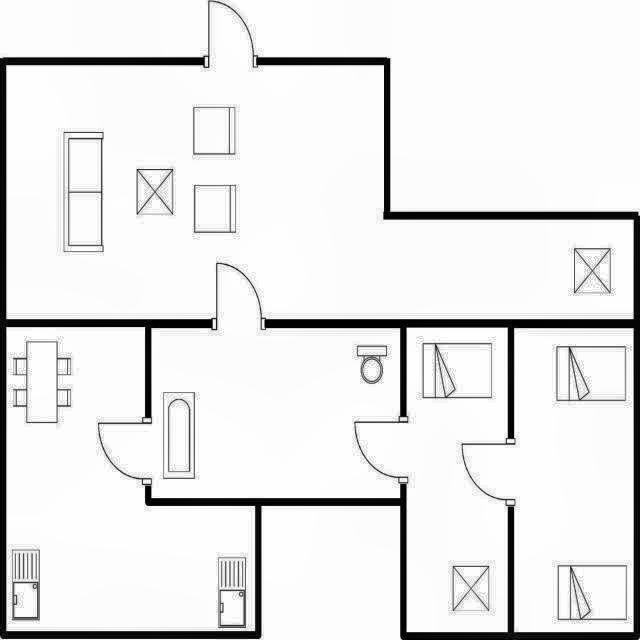room: (6, 65, 635, 319), (7, 326, 254, 631), (151, 328, 401, 499), (407, 328, 508, 631)
